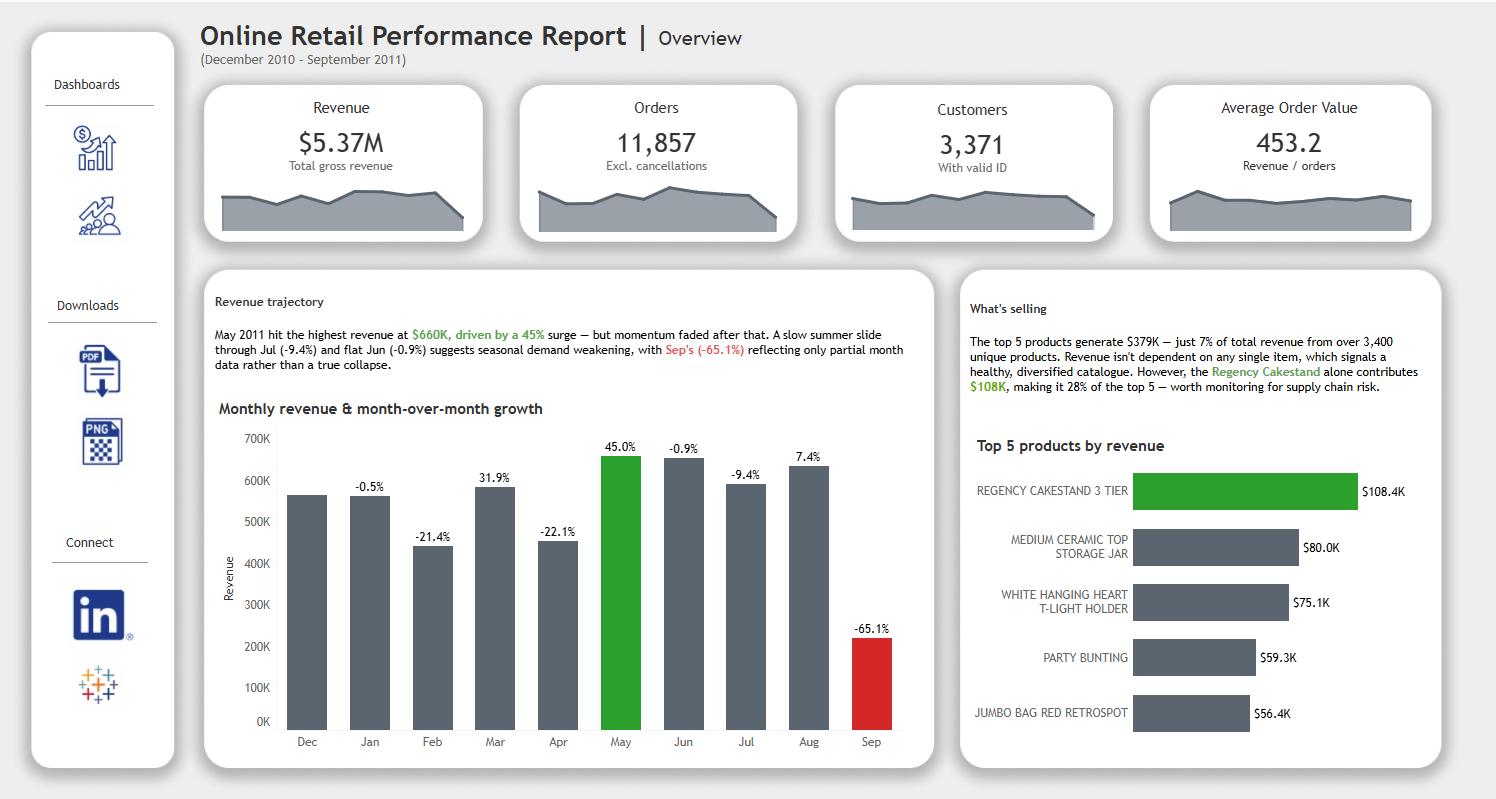

The page's visual inventory and layout, read from the dashboard file:
{"tool":"tableau","page":{"name":"Overview","canvas":[1000,1000],"units":"permille","ordinal":0},"visuals":[{"type":"image","param":"Image/Overview Layout.png","box":[0,0,1000,1000]},{"type":"text","box":[134,11.2,602,83.8]},{"type":"text","box":[36.7,85,68.7,37.5]},{"type":"worksheet","title":"Revenue","mark":"Automatic","box":[140.7,112.5,175.3,171.2]},{"type":"worksheet","title":"Orders","mark":"Automatic","box":[350.7,112.5,175.3,171.2]},{"type":"worksheet","title":"AOV","mark":"Automatic","box":[772,112.5,176.7,167.5]},{"type":"worksheet","title":"Customers","mark":"Automatic","box":[562,115,174,156.2]},{"type":"blank","box":[30.7,128.8,72.7,1.2]},{"type":"dashboard-object","box":[30.7,151.2,66.7,65]},{"type":"dashboard-object","box":[34.7,240,64.7,65]},{"type":"text","box":[143.3,342.5,466.7,161.2]},{"type":"text","box":[647.3,346.2,308,173.8]},{"type":"text","box":[38.7,361.2,66.7,37.5]},{"type":"blank","box":[32.7,400,72.7,1.2]},{"type":"dashboard-object","box":[35.3,423.8,66.7,76.2]},{"type":"worksheet","title":"Monthly revenue & month-over-month growth","mark":"Bar","rows":["Calculation_0900549600825360"],"cols":["invoice_date"],"box":[144,488.8,458.7,446.2]},{"type":"dashboard-object","box":[39.3,512.5,60.7,75]},{"type":"worksheet","title":"Top 5 Products by revenue","mark":"Automatic","rows":["description"],"cols":["Calculation_0900549600825360"],"box":[649.3,535,298,388.8]},{"type":"text","box":[44.7,657.5,66.7,37.5]},{"type":"blank","box":[35.3,700,64,1.2]},{"type":"image","param":"Image/Screenshot 2026-03-17 221749.png","box":[44.7,727.5,46,81.2]},{"type":"image","param":"Image/Screenshot 2026-03-17 221802.png","box":[44.7,822.5,42.7,60]}]}

Visuals, with their boxes on the dashboard's canvas, which has no fixed pixel size, in thousandths of its width and height (x1, y1, x2, y2). These are canvas units, not pixel positions in the 1496x799 screenshot, which may show the page scaled, cropped or inside an application window:
image: <box>0,0,1000,1000</box>
text: <box>134,11,736,95</box>
text: <box>37,85,105,122</box>
"Revenue" worksheet: <box>141,112,316,284</box>
"Orders" worksheet: <box>351,112,526,284</box>
"AOV" worksheet: <box>772,112,949,280</box>
"Customers" worksheet: <box>562,115,736,271</box>
blank: <box>31,129,103,130</box>
dashboard-object: <box>31,151,97,216</box>
dashboard-object: <box>35,240,99,305</box>
text: <box>143,342,610,504</box>
text: <box>647,346,955,520</box>
text: <box>39,361,105,399</box>
blank: <box>33,400,105,401</box>
dashboard-object: <box>35,424,102,500</box>
"Monthly revenue & month-over-month growth" worksheet (Bar marks): <box>144,489,603,935</box>
dashboard-object: <box>39,512,100,588</box>
"Top 5 Products by revenue" worksheet: <box>649,535,947,924</box>
text: <box>45,658,111,695</box>
blank: <box>35,700,99,701</box>
image: <box>45,728,91,809</box>
image: <box>45,822,87,882</box>
